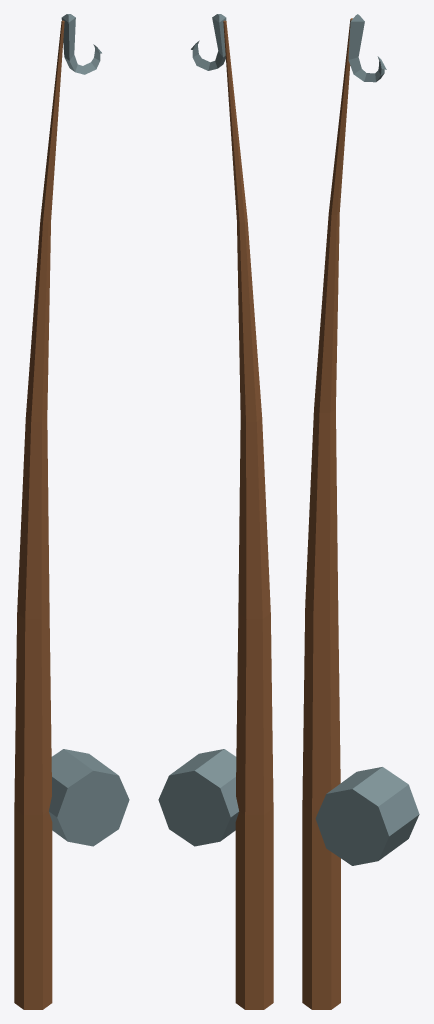
File: Fishing Rod.fbx
3 views of the same model, side by side, from view 1: azimuth 30°, elevation 25°; view 2: azimuth 150°, elevation 25°; view 3: azimuth 330°, elevation 25° (orthographic).
Parts seen in each view (by area): view 1: FIshing Rod, Reel, Hook; view 2: FIshing Rod, Reel, Hook; view 3: FIshing Rod, Reel, Hook.
Boxes of the visible parts, box(x1,y1,x2,y2) form: FIshing Rod: box(14, 20, 64, 1009); Reel: box(48, 749, 129, 846); Hook: box(61, 14, 101, 74); FIshing Rod: box(223, 20, 273, 1009); Reel: box(158, 749, 239, 846); Hook: box(191, 14, 226, 70); FIshing Rod: box(302, 18, 352, 1009); Reel: box(315, 767, 419, 865); Hook: box(348, 14, 386, 82).
Size of the model in its own units: 18.46 by 181 by 10.
1 material, 1 textured.
